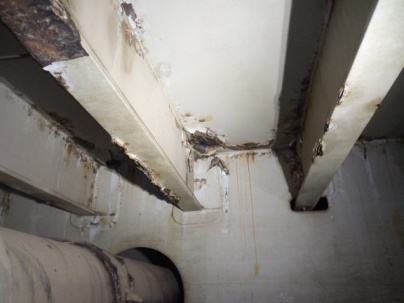corrosion: (0, 0, 101, 80), (179, 122, 235, 178), (53, 154, 105, 213), (27, 104, 83, 150), (116, 1, 148, 58), (235, 135, 287, 165), (311, 125, 344, 162), (329, 82, 352, 102)
